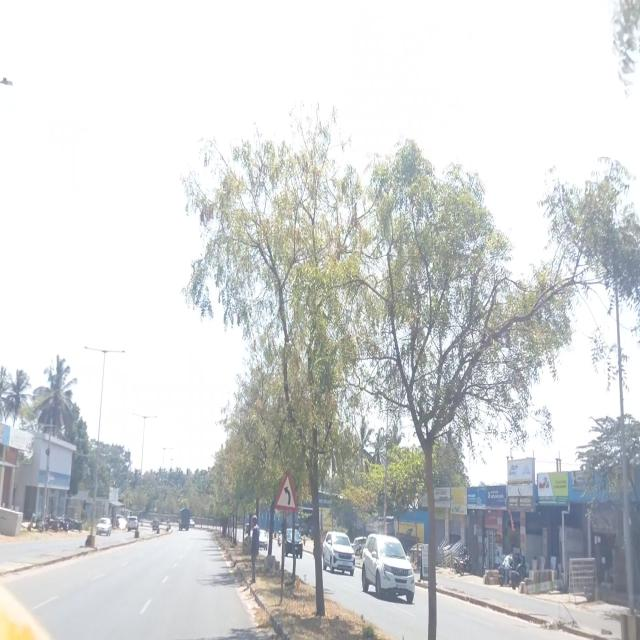bien_cam: (276, 474, 296, 511)
